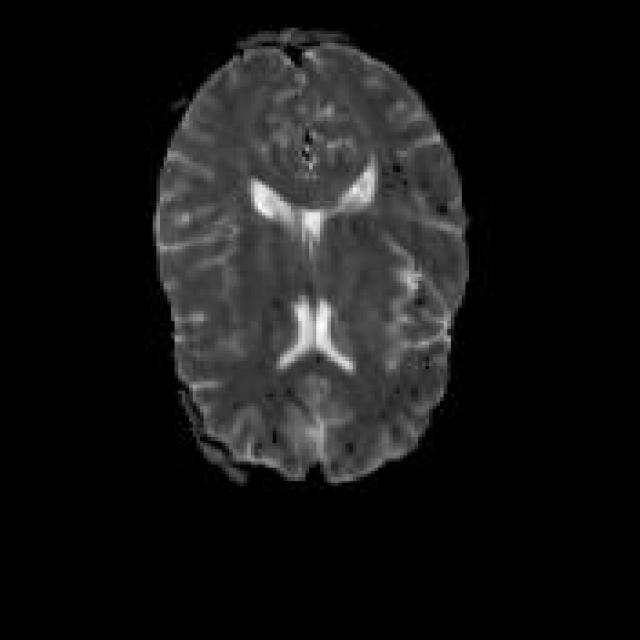CONTROL: (149, 25, 469, 486)
